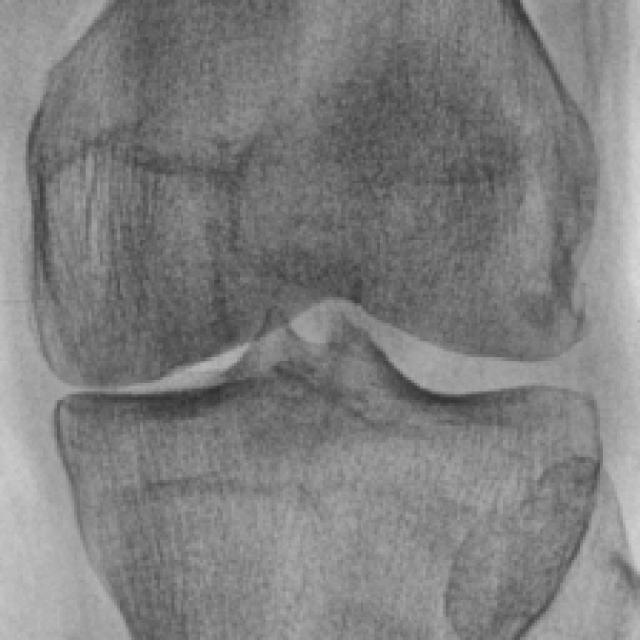femur: (26, 0, 598, 389)
tibia: (56, 325, 600, 640)
